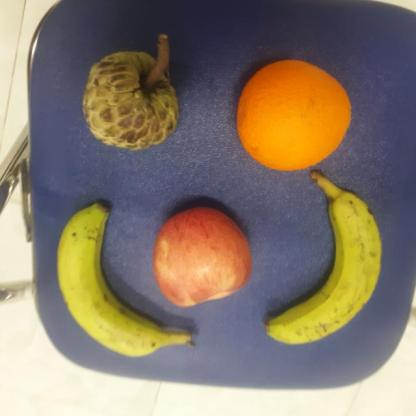annona: (83, 52, 179, 151)
apple: (154, 208, 252, 308)
banana: (57, 204, 195, 358), (266, 170, 382, 344)
orange: (237, 58, 352, 171)
